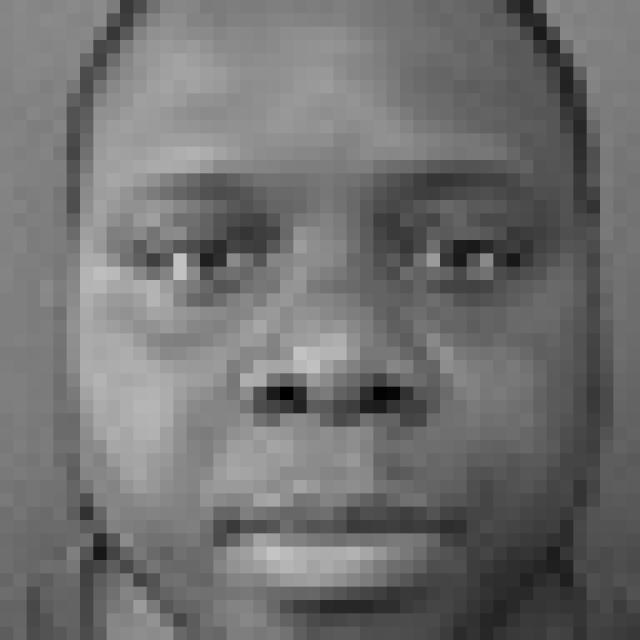neutral: (102, 155, 557, 607)
